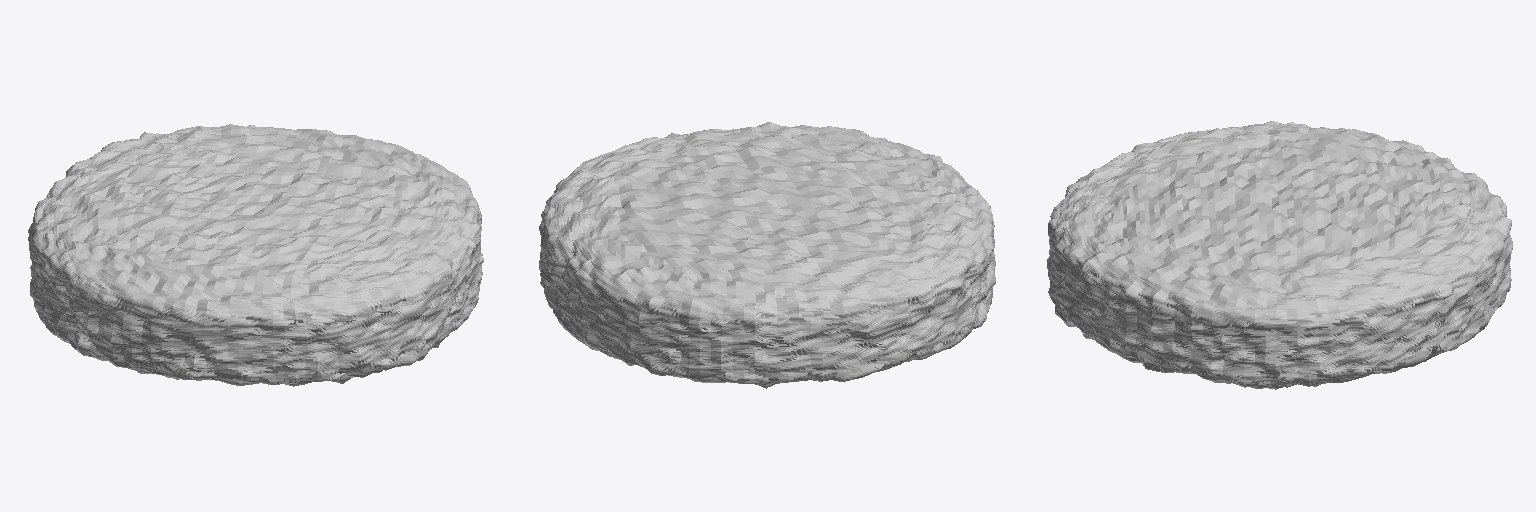
File: Fry_meat.obj
3 views of the same model, side by side, from view 1: azimuth 30°, elevation 25°; view 2: azimuth 150°, elevation 25°; view 3: azimuth 270°, elevation 25° (orthographic).
Parts seen in each view (by area): view 1: Burger_cooked.003; view 2: Burger_cooked.003; view 3: Burger_cooked.003.
Part boxes in pixels (left/top/right/bottom): Burger_cooked.003: left=28, top=124, right=483, bottom=386; Burger_cooked.003: left=539, top=122, right=995, bottom=388; Burger_cooked.003: left=1047, top=121, right=1512, bottom=389.
Bounding box in the file's own units: 4.93 × 1.26 × 4.92.